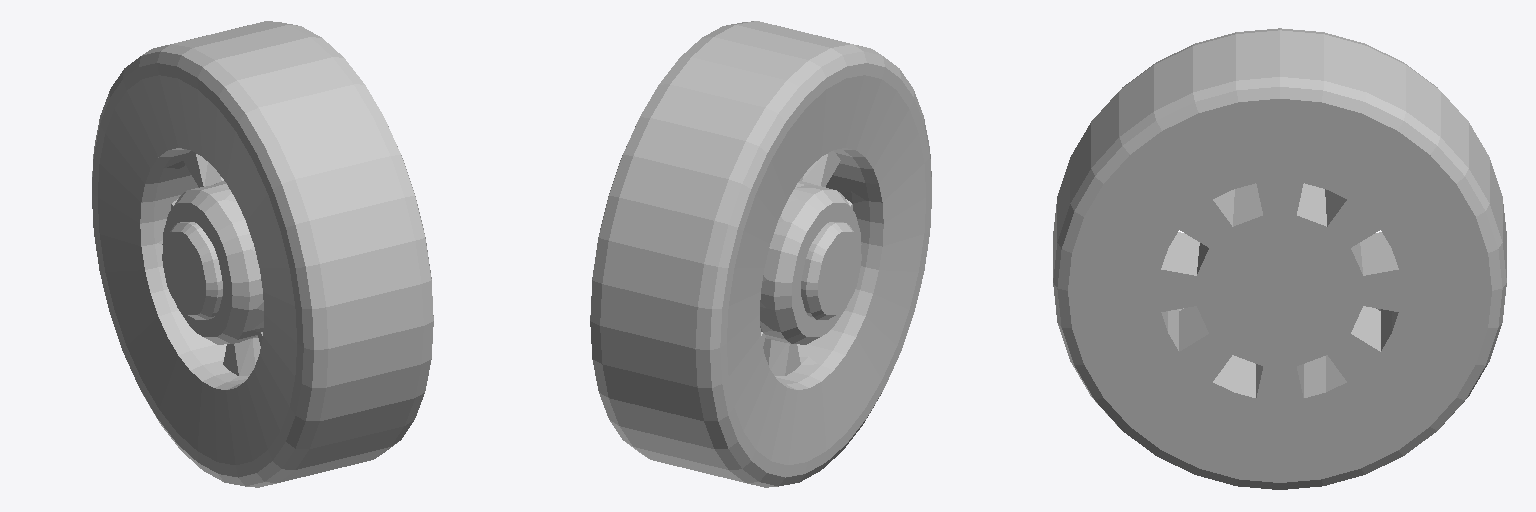
File: SM_roue_resource.obj
3 views of the same model, side by side, from view 1: azimuth 30°, elevation 25°; view 2: azimuth 150°, elevation 25°; view 3: azimuth 270°, elevation 25° (orthographic).
Visible parts, largest first — view 1: roue.011; view 2: roue.011; view 3: roue.011.
Part boxes in pixels (x1,y1,x2,y2): roue.011: (92, 21, 433, 487); roue.011: (590, 21, 931, 487); roue.011: (1053, 28, 1506, 489).
Size of the model in its own units: 0.3829 by 1.05 by 1.05.